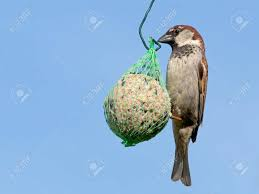hsparrow: (155, 23, 212, 189)
